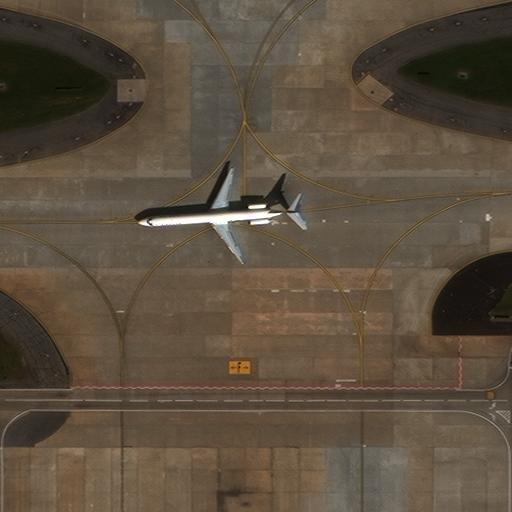Medium Civil Transport: (139, 167, 300, 264)
